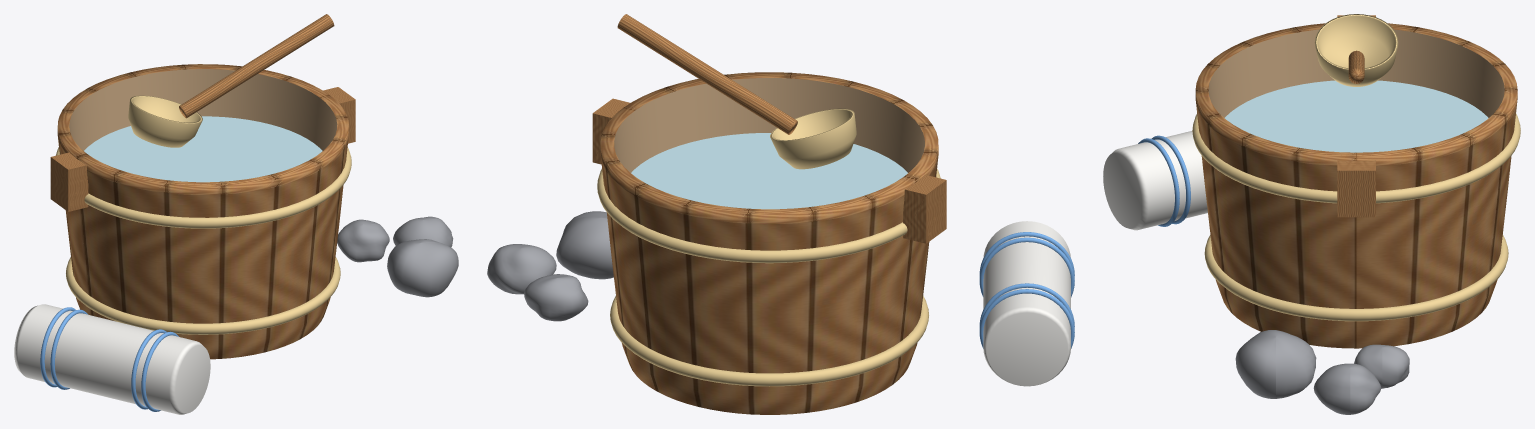
File: thermae.glb
The picture shows the model from 3 angles, left to right: view 1: azimuth 30°, elevation 25°; view 2: azimuth 150°, elevation 25°; view 3: azimuth 270°, elevation 25°; orthographic projection. The views are drawn at different scales.
Size of the model in its own units: 1.85 by 1.01 by 1.3.
Materials: 7 (1 with a texture image).
